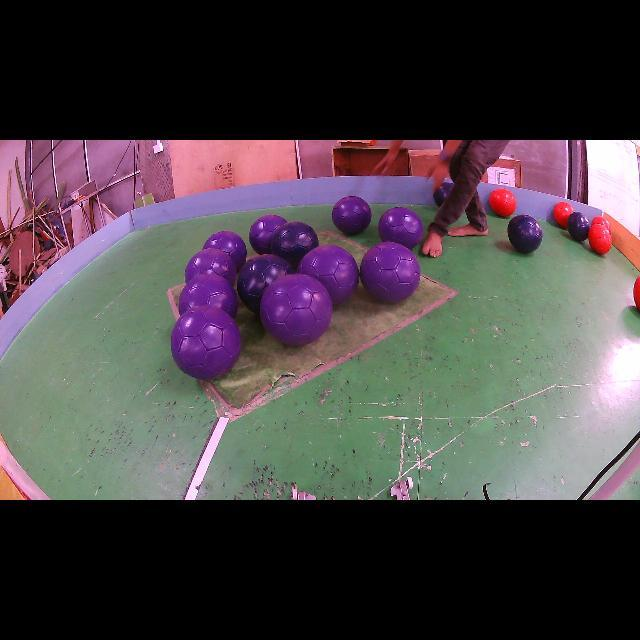B: (238, 254, 294, 313), (270, 221, 319, 270), (508, 215, 542, 254), (568, 211, 590, 241), (434, 182, 454, 206)
P: (171, 305, 241, 380), (259, 274, 331, 345), (298, 245, 359, 306), (361, 242, 421, 304), (179, 274, 238, 319), (185, 249, 236, 285), (379, 208, 422, 250), (203, 231, 247, 268), (249, 214, 288, 254), (331, 196, 371, 234)
R: (589, 224, 612, 254), (554, 201, 575, 228), (591, 216, 611, 235), (634, 276, 640, 311)
